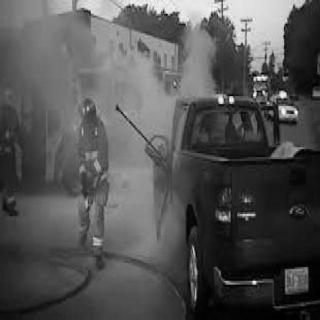Smoke: (111, 64, 182, 238)
